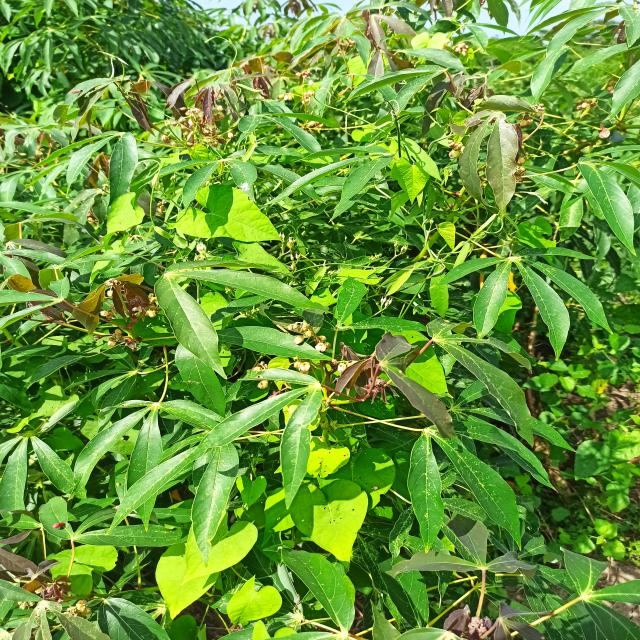Maleza: (289, 470, 391, 567), (170, 179, 281, 240), (178, 499, 253, 572), (161, 545, 204, 618), (298, 427, 354, 472)
Mosaico: (63, 269, 155, 335), (347, 348, 435, 416)
Mosca: (46, 515, 72, 536)
